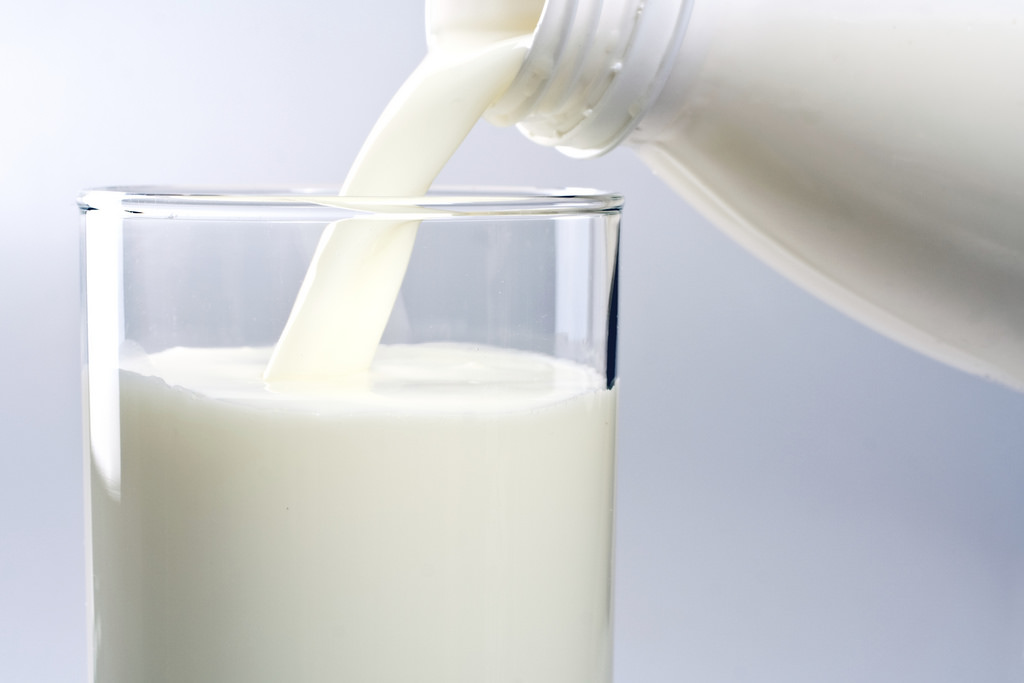glass of milk: (53, 189, 644, 683)
